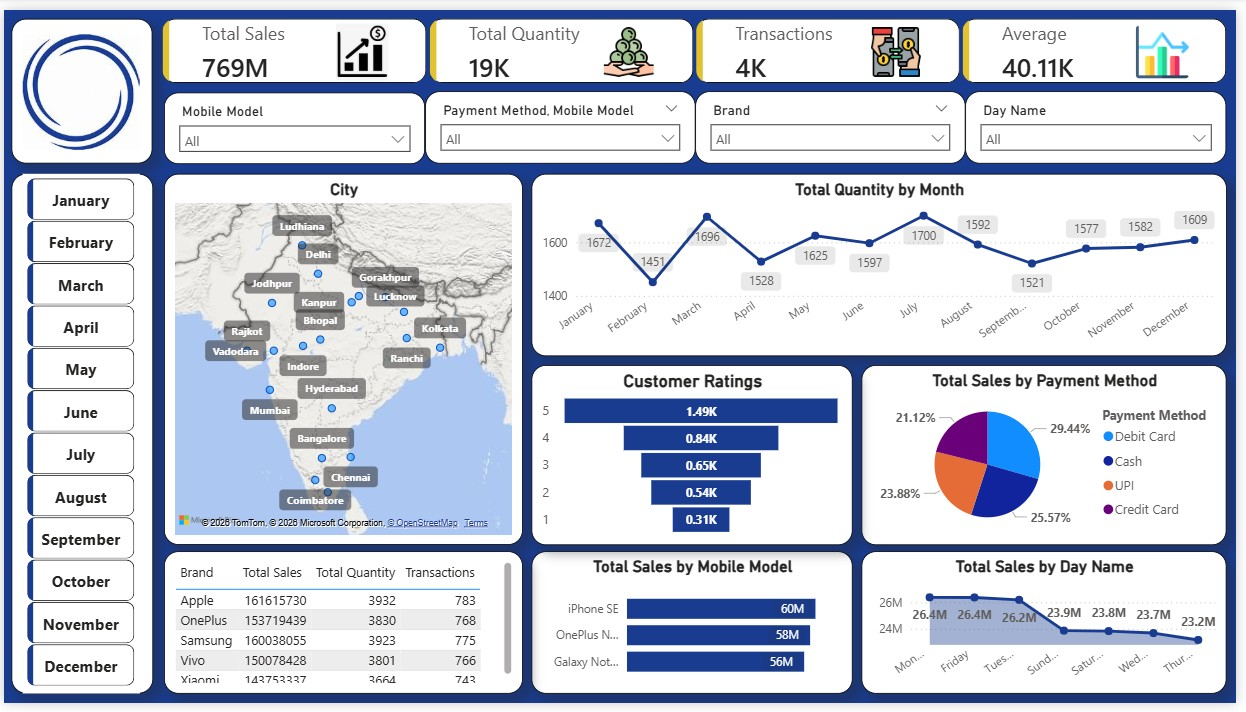

This screenshot's page, from the dashboard's own definition file:
{"tool":"powerbi","page":{"name":"Page 1","canvas":[1280,720],"ordinal":0},"visuals":[{"type":"shape","box":[7.8,9.1,146.8,150.6],"z":0},{"type":"image","box":[19.2,21.8,121.8,126.9],"z":1000},{"type":"shape","box":[7.7,170.5,147.4,539.7],"z":2000},{"type":"advancedSlicerVisual","fields":{"Values":["Sales-Data.Date.Variation.Date Hierarchy.Month"]},"box":[19.2,170.5,121.8,539.7],"z":3000},{"type":"cardVisual","fields":{"Data":["Sales-Data.Total Sales","Sales-Data.Total Quantity","Sales-Data.Transactions","Sales-Data.Average"]},"box":[154.6,0,1125.2,85.9],"z":4000},{"type":"map","fields":{"Category":["Sales-Data.City"]},"box":[166.2,170.1,372.7,385.7],"z":5000},{"type":"lineChart","fields":{"Category":["Sales-Data.Date.Variation.Date Hierarchy.Month","Sales-Data.Date.Variation.Date Hierarchy.Day"],"Y":["Sales-Data.Total Quantity"]},"box":[548.1,170.1,722.1,189.6],"z":6000},{"type":"clusteredBarChart","fields":{"Category":["Sales-Data.Mobile Model"],"Y":["Sales-Data.Total Sales"]},"box":[548.1,562.3,333.8,148.1],"z":7000},{"type":"pieChart","fields":{"Y":["Sales-Data.Total Sales"],"Category":["Sales-Data.Payment Method"]},"box":[890.9,368.8,379.2,187],"z":8000},{"type":"funnel","title":"Customer Ratings ","fields":{"Category":["Sales-Data.Customer Ratings"],"Y":["CountNonNull(Sales-Data.Customer Ratings)"]},"box":[548.1,368.8,333.8,187],"z":9000},{"type":"areaChart","fields":{"Category":["Sales-Data.Day Name"],"Y":["Sales-Data.Total Sales"]},"box":[890.9,562.3,379.2,148.1],"z":10000},{"type":"tableEx","fields":{"Values":["Sales-Data.Brand","Sales-Data.Total Sales","Sales-Data.Total Quantity","Sales-Data.Transactions"]},"box":[166.2,562.3,372.7,148.1],"z":11000},{"type":"slicer","fields":{"Values":["Sales-Data.Mobile Model"]},"box":[166.2,85.7,271.4,74],"z":12000},{"type":"slicer","fields":{"Values":["Sales-Data.Payment Method","Sales-Data.Mobile Model"]},"box":[437.7,84.4,280.5,75.3],"z":13000},{"type":"slicer","fields":{"Values":["Sales-Data.Brand"]},"box":[718.2,84.4,280.5,75.3],"z":14000},{"type":"slicer","fields":{"Values":["Sales-Data.Day Name"]},"box":[998.7,84.4,271.4,75.3],"z":15000}]}

Visuals, with their boxes in screenshot pixels (x1, y1, x2, y2), scaled from the page's 1280x720 canvas onto the 1246x712 screenshot:
shape: (x1=8, y1=9, x2=150, y2=158)
image: (x1=19, y1=22, x2=137, y2=147)
shape: (x1=7, y1=169, x2=151, y2=702)
advancedSlicerVisual - Sales-Data.Date.Variation.Date Hierarchy.Month: (x1=19, y1=169, x2=137, y2=702)
cardVisual - Sales-Data.Total Sales x Sales-Data.Total Quantity: (x1=150, y1=0, x2=1245, y2=85)
map - Sales-Data.City: (x1=162, y1=168, x2=525, y2=550)
lineChart - Sales-Data.Date.Variation.Date Hierarchy.Month x Sales-Data.Date.Variation.Date Hierarchy.Day: (x1=534, y1=168, x2=1236, y2=356)
clusteredBarChart - Sales-Data.Mobile Model x Sales-Data.Total Sales: (x1=534, y1=556, x2=858, y2=703)
pieChart - Sales-Data.Total Sales x Sales-Data.Payment Method: (x1=867, y1=365, x2=1236, y2=550)
"Customer Ratings " funnel: (x1=534, y1=365, x2=858, y2=550)
areaChart - Sales-Data.Day Name x Sales-Data.Total Sales: (x1=867, y1=556, x2=1236, y2=703)
tableEx - Sales-Data.Brand x Sales-Data.Total Sales: (x1=162, y1=556, x2=525, y2=703)
slicer - Sales-Data.Mobile Model: (x1=162, y1=85, x2=426, y2=158)
slicer - Sales-Data.Payment Method x Sales-Data.Mobile Model: (x1=426, y1=83, x2=699, y2=158)
slicer - Sales-Data.Brand: (x1=699, y1=83, x2=972, y2=158)
slicer - Sales-Data.Day Name: (x1=972, y1=83, x2=1236, y2=158)
